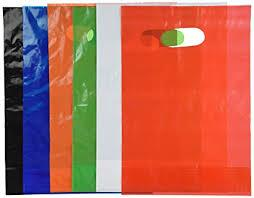Plastic bag: (0, 2, 254, 198)
